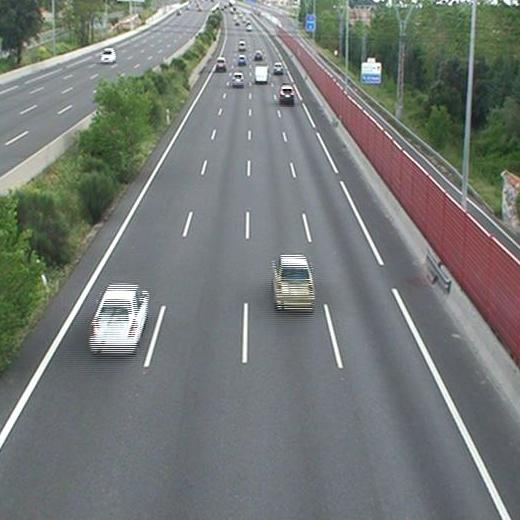car: (89, 285, 150, 353), (272, 255, 315, 309), (279, 86, 295, 101), (216, 57, 226, 70), (273, 62, 284, 73), (232, 74, 243, 85), (254, 51, 263, 59), (239, 41, 247, 50), (237, 56, 245, 64)
van: (255, 66, 269, 82)
